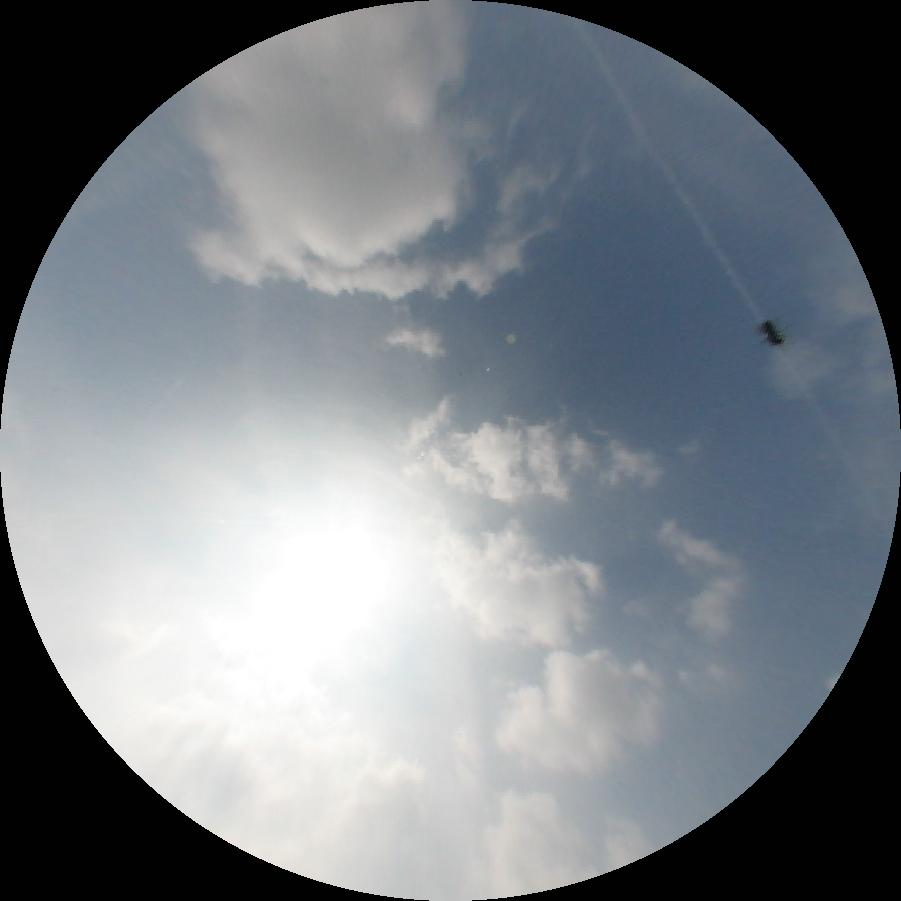contrail old: (571, 19, 890, 545)
contrail young: (143, 379, 181, 426)
sun: (185, 479, 376, 690)
